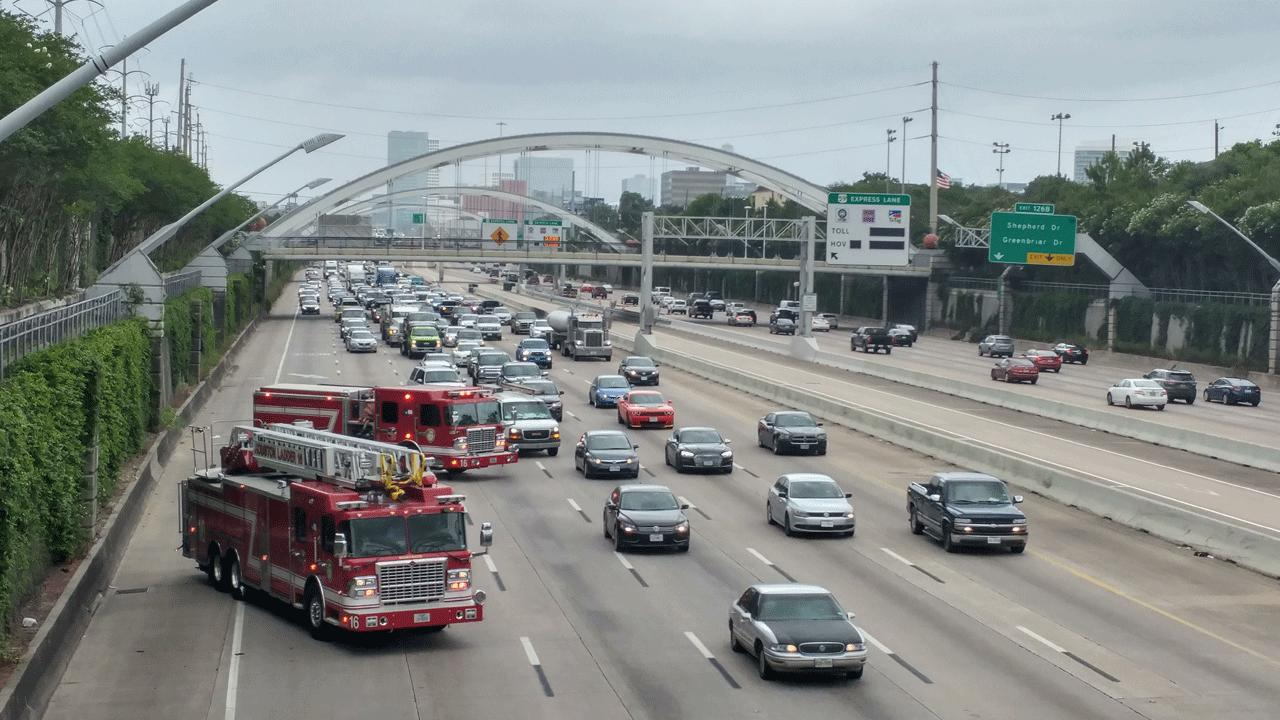Fire-engine: (175, 419, 493, 639), (252, 383, 519, 477)
